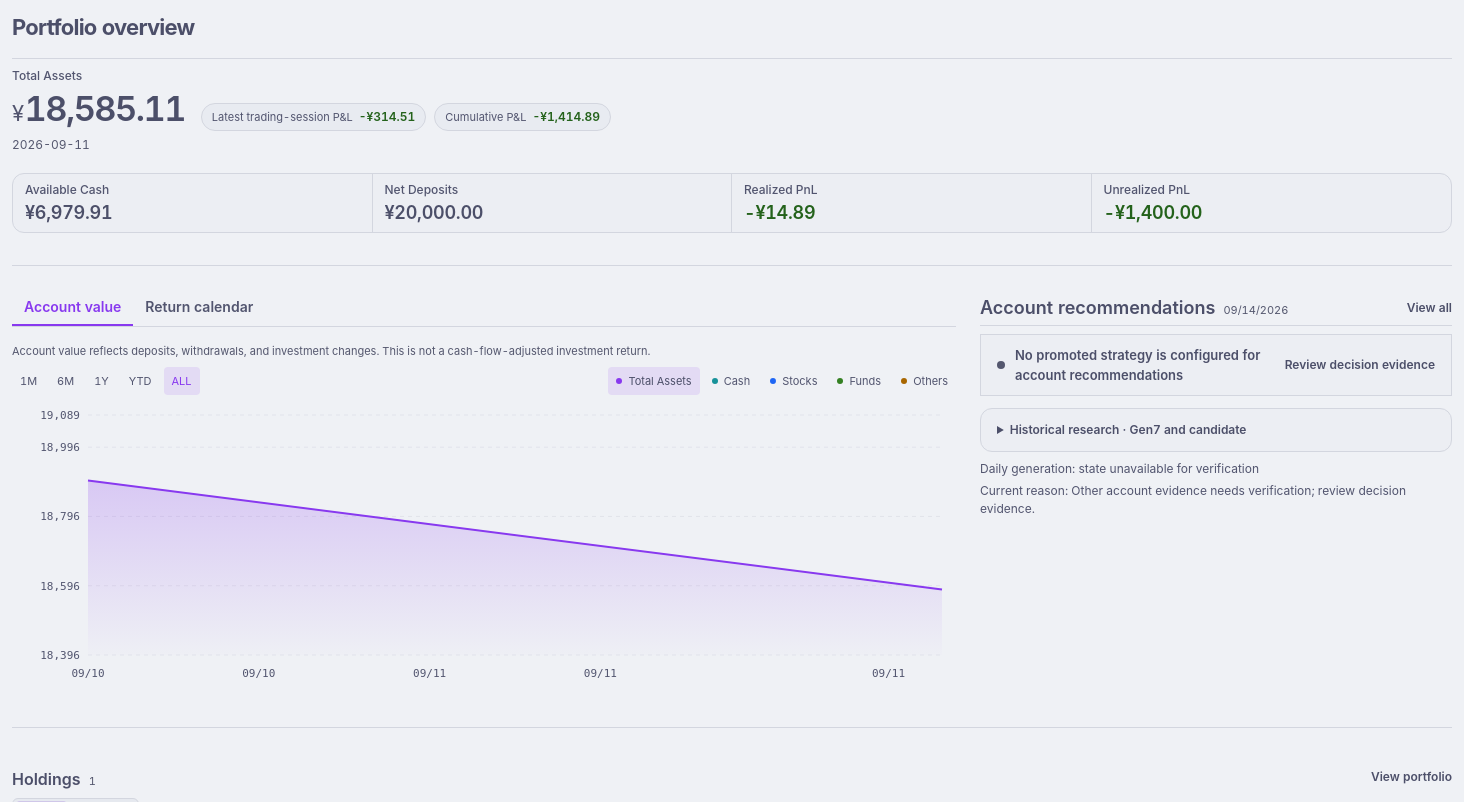
Test: shows saved historical research and separate forward states without account recommendations (en)
Click the heading "Historical research · Gen7 and candidate". click: [1128, 430]
box: top-left (1010, 422), bottom-right (1246, 437)
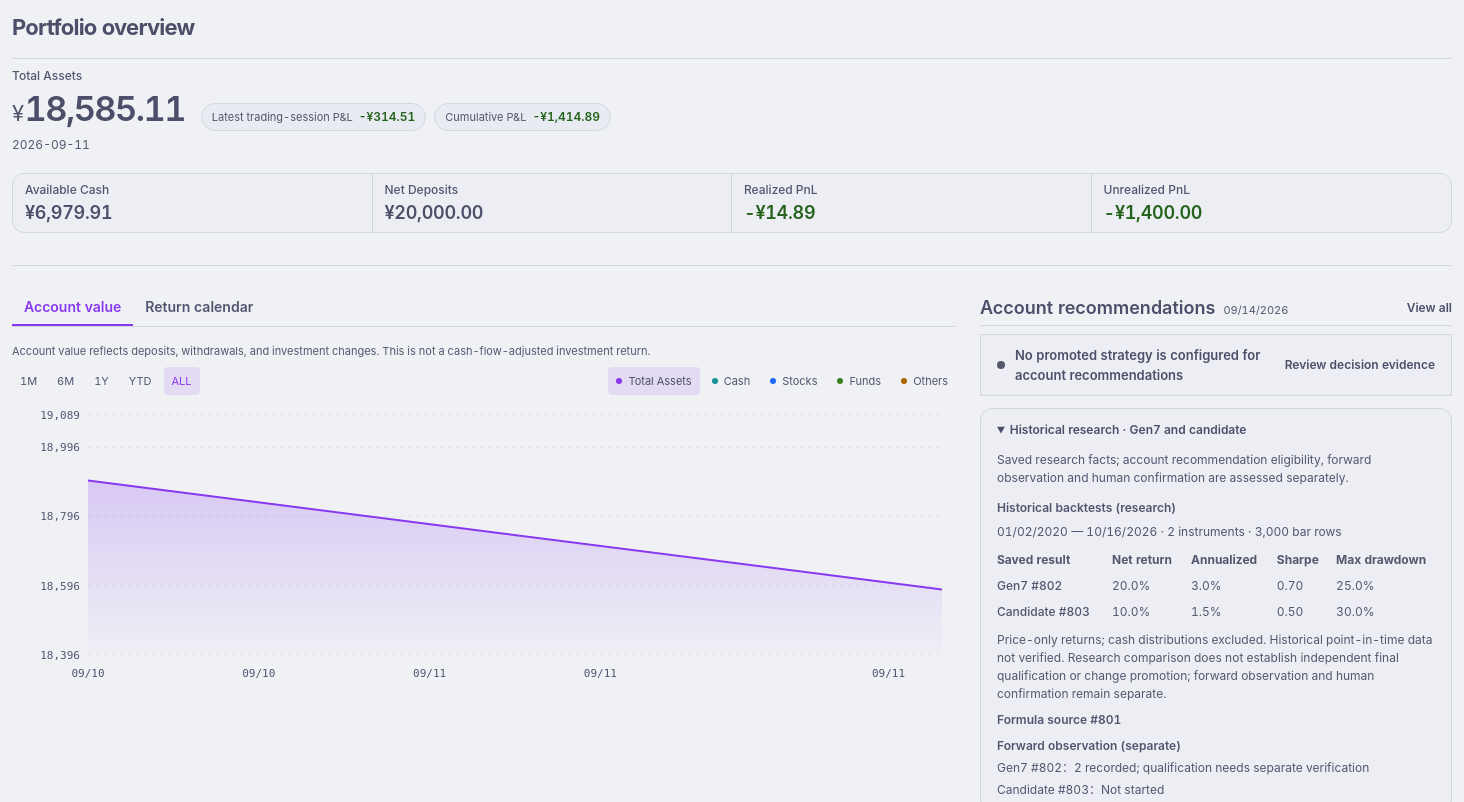
Expected: the table is shown, top-left (997, 547), bottom-right (1435, 625)
Expected: the table shows "20.0%", top-left (1112, 578), bottom-right (1150, 593)
Expected: the table shows "10.0%", top-left (1112, 604), bottom-right (1150, 619)
